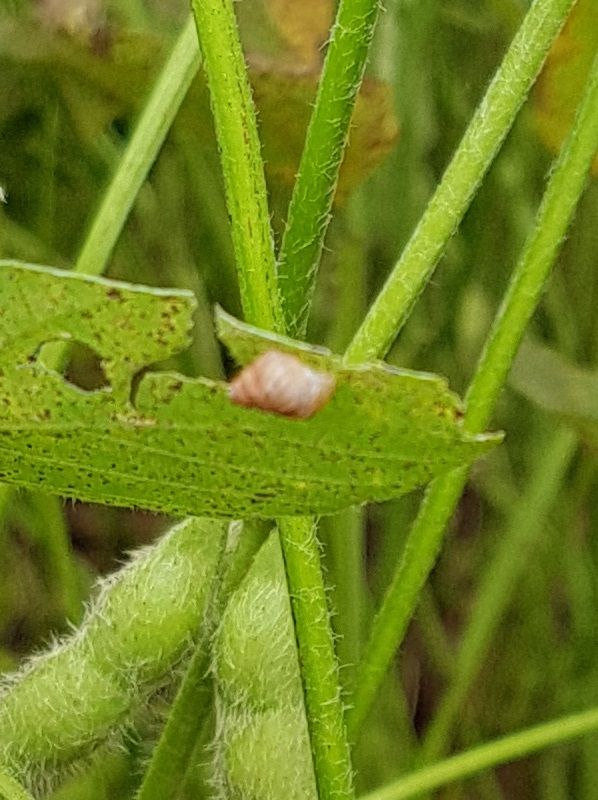Gastropoda: (214, 333, 345, 439)
